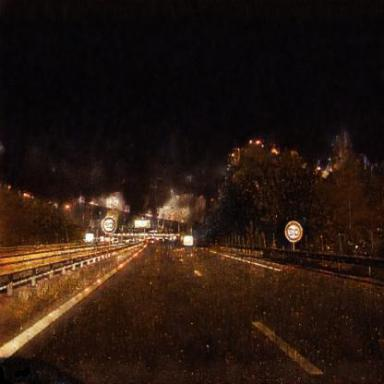Speed_limit_90: (284, 220, 302, 242)
